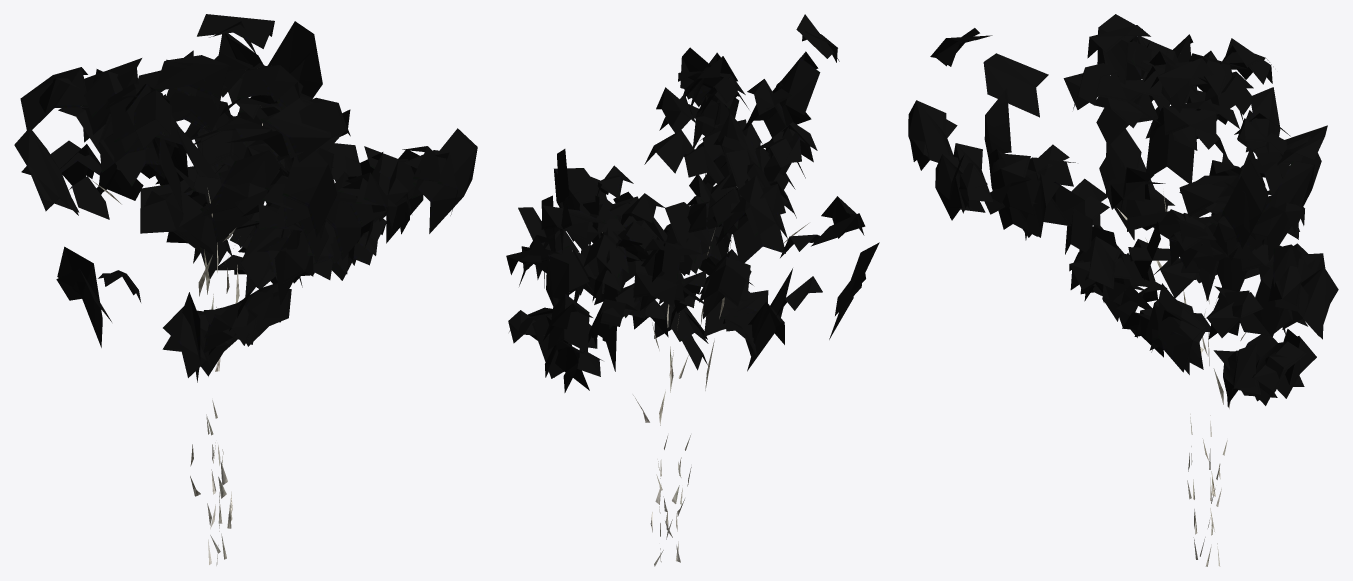
The model's file is bush_5.obj.
The picture shows the model from 3 angles, left to right: view 1: azimuth 30°, elevation 25°; view 2: azimuth 150°, elevation 25°; view 3: azimuth 270°, elevation 25°; orthographic projection. The views are drawn at different scales.
Visible parts, largest first — view 1: Bush_1_5; view 2: Bush_1_5; view 3: Bush_1_5.
Boxes of the visible parts, x1=… form: Bush_1_5: x1=14, y1=14, x2=477, y2=565; Bush_1_5: x1=506, y1=14, x2=879, y2=566; Bush_1_5: x1=908, y1=14, x2=1338, y2=566.
Size of the model in its own units: 0.5888 by 0.7801 by 0.5903.
1 material, 1 textured.
